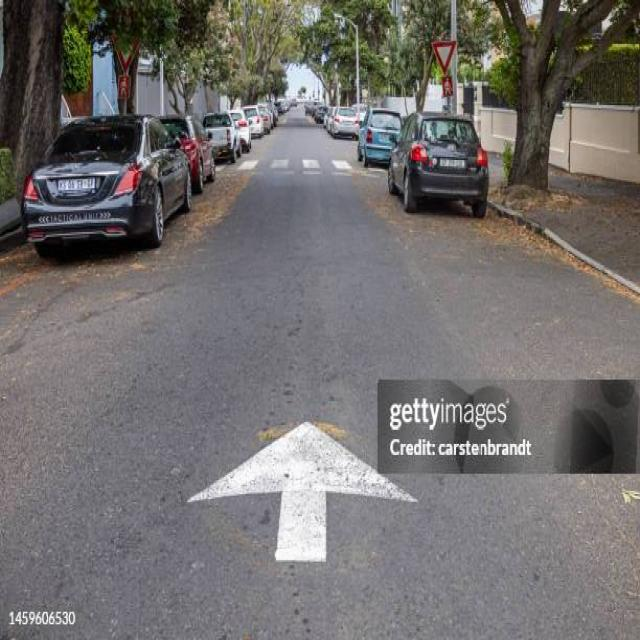road_oneway: (189, 420, 419, 566)
